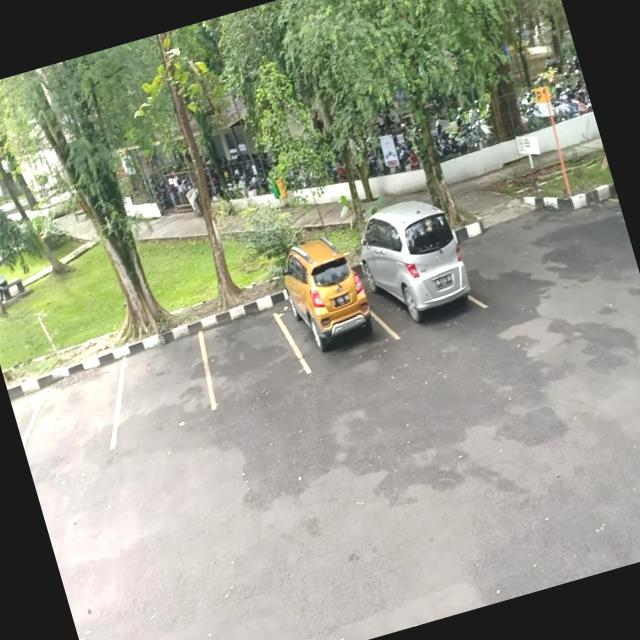empty: (4, 340, 136, 471), (102, 309, 218, 436), (186, 280, 302, 405)
occupied: (354, 208, 484, 342), (270, 240, 388, 372)
